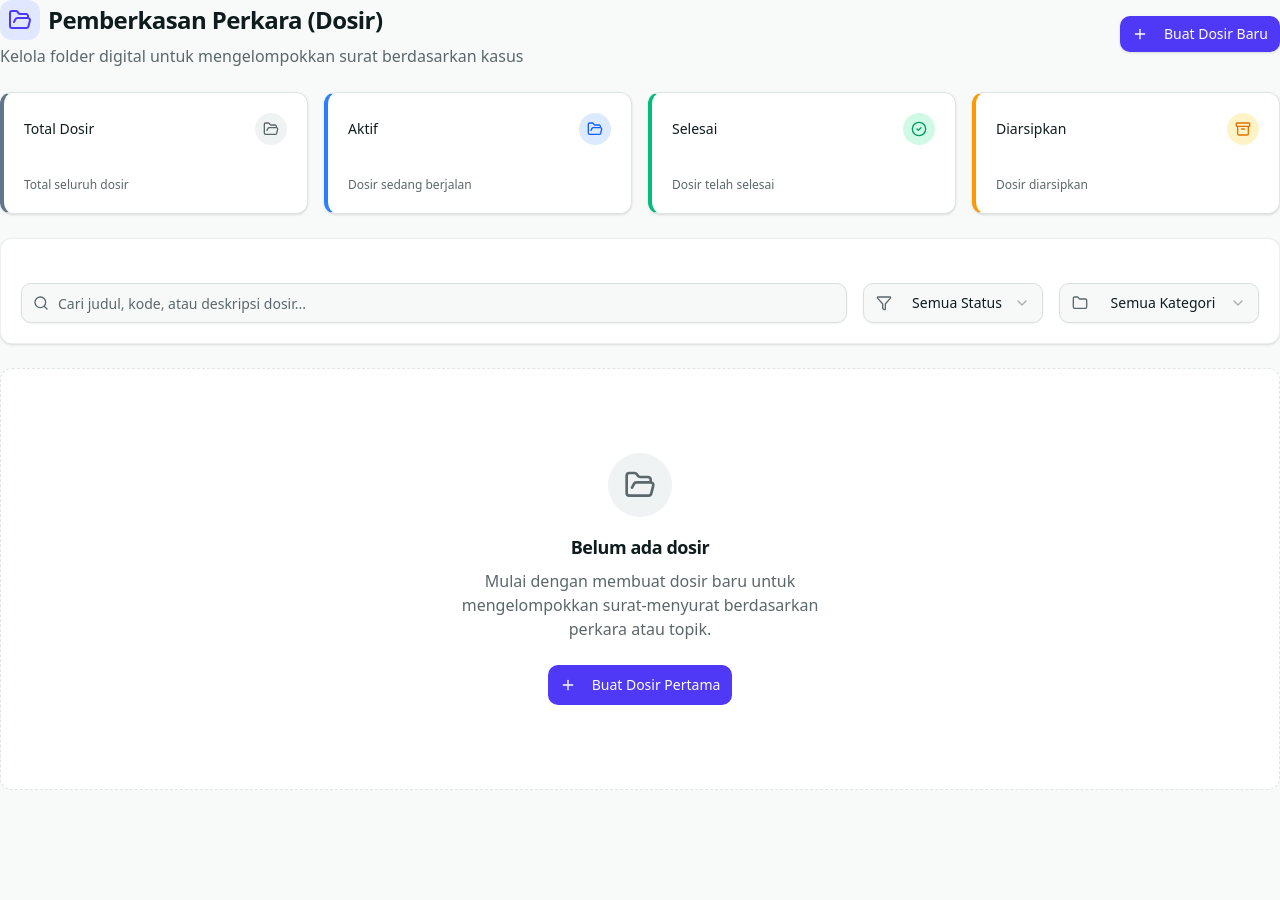
it: shows a create error and leaves the user input available for retry
Click the button "Buat Dosir Pertama" at (640, 685), box [548,665,732,705]
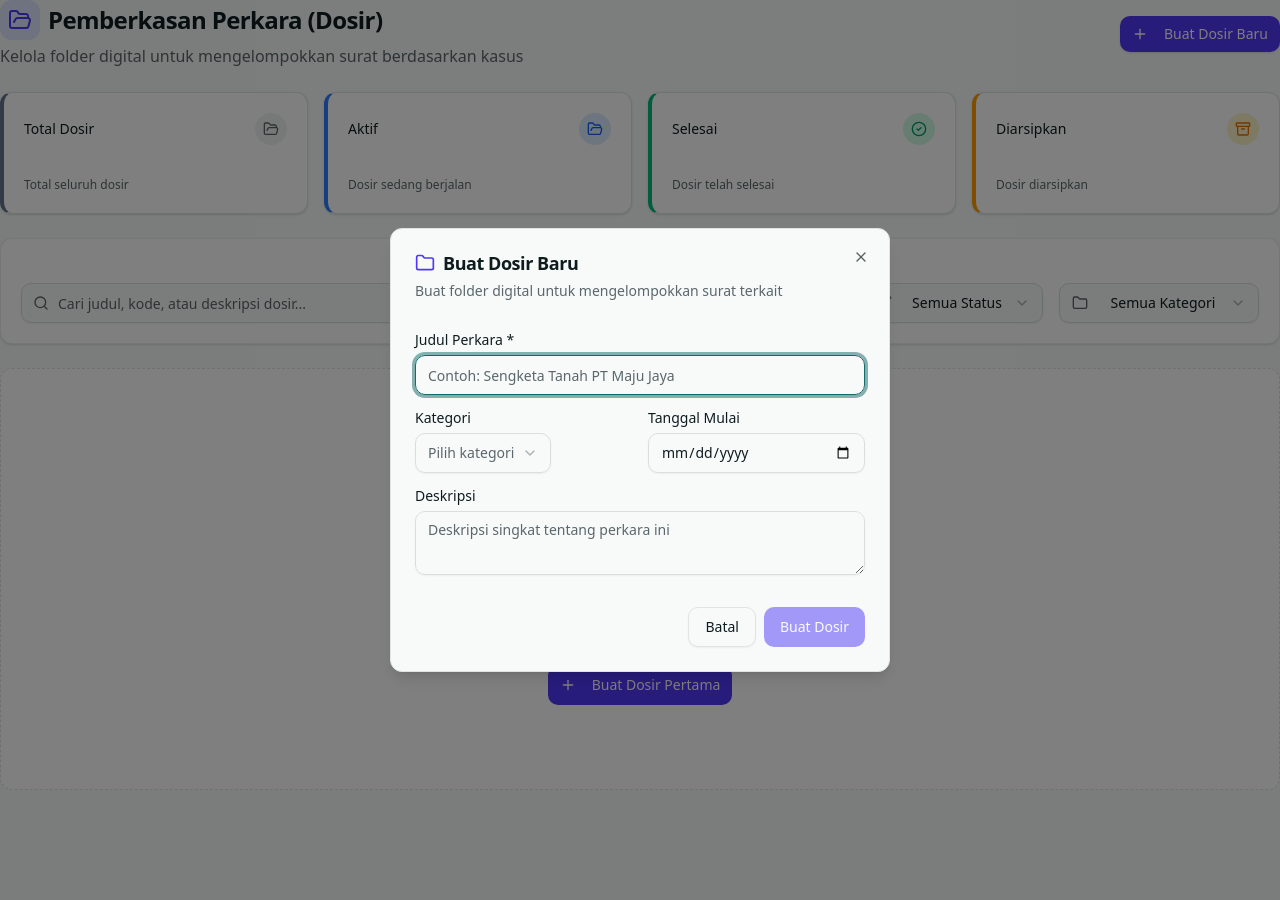
Type "Dosir percobaan" into the field labelled "Judul Perkara *" at (640, 375), box [415,355,865,395]
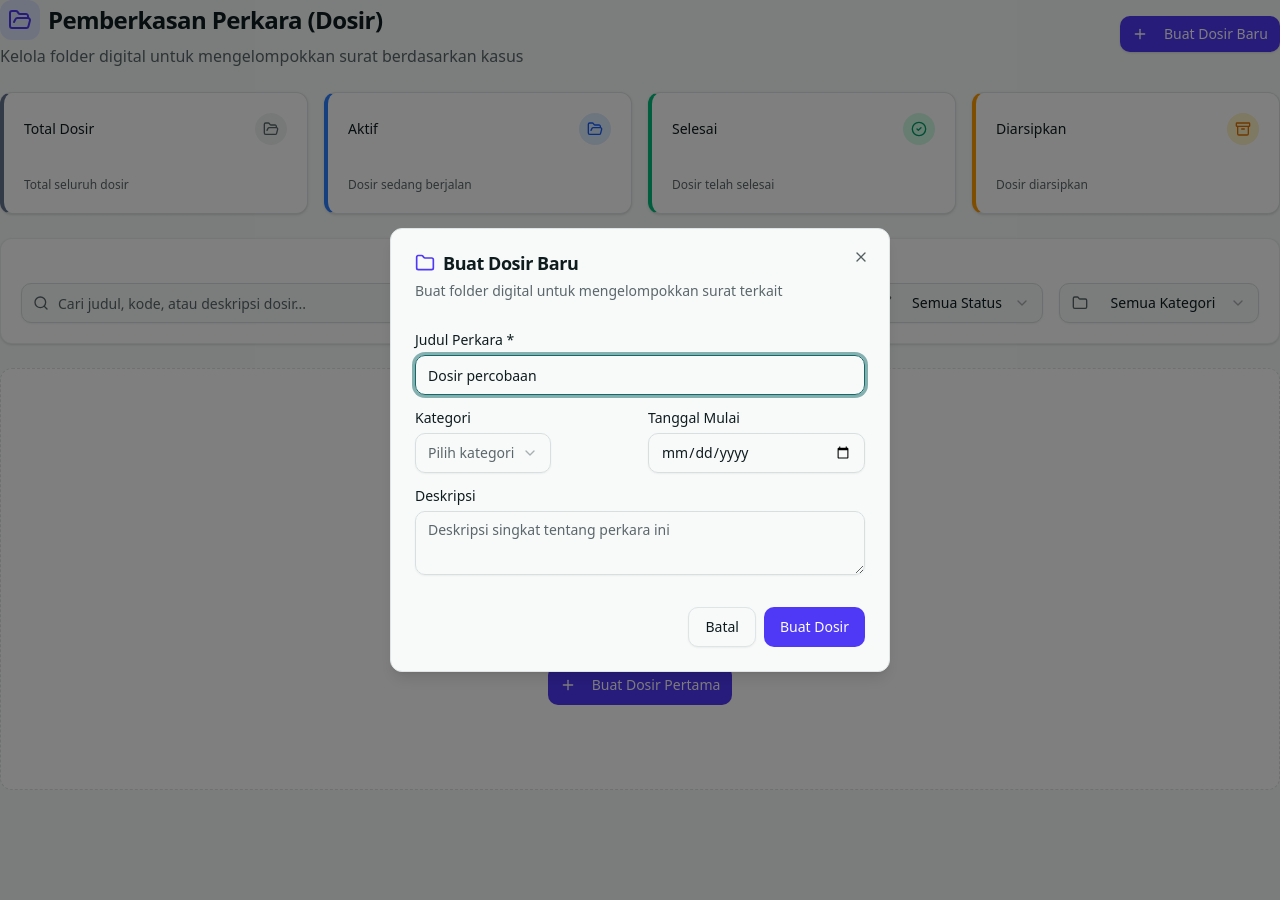
Click the button "Buat Dosir" at (814, 627), box [764,607,865,647]
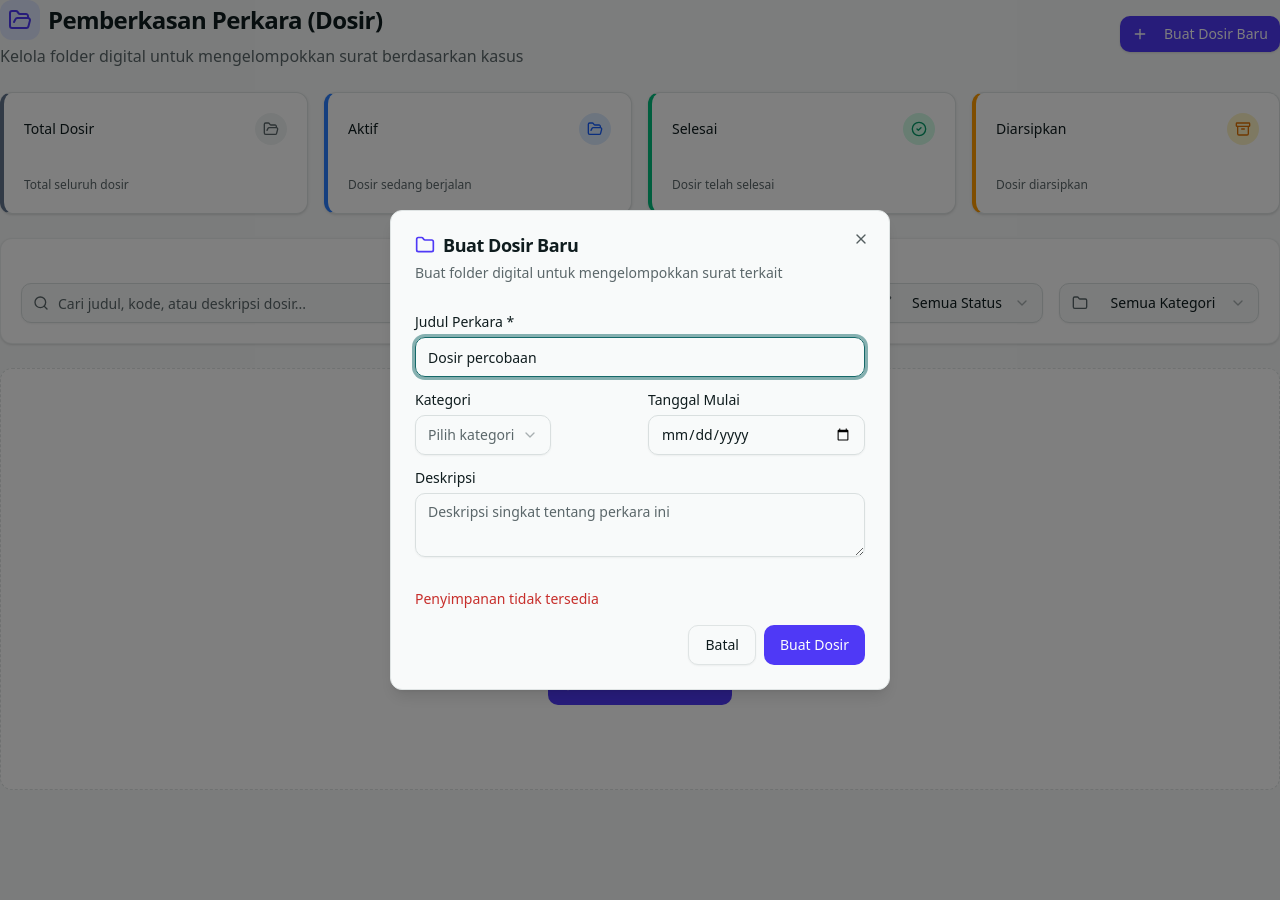
expect the message reads "Penyimpanan tidak tersedia": met, box [415,589,599,608]
